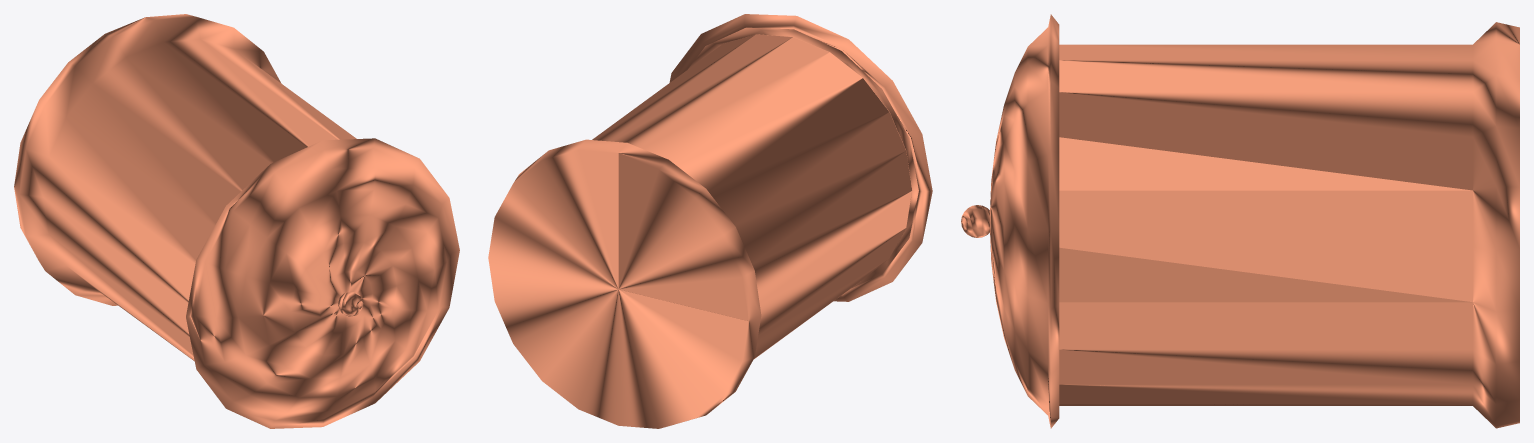
The model's file is model_align.obj.
3 renders of one model, left to right at view 1: azimuth 30°, elevation 25°; view 2: azimuth 150°, elevation 25°; view 3: azimuth 270°, elevation 25°, orthographic. The views are drawn at different scales.
Size of the model in its own units: 0.1425 by 0.1426 by 0.1918.
